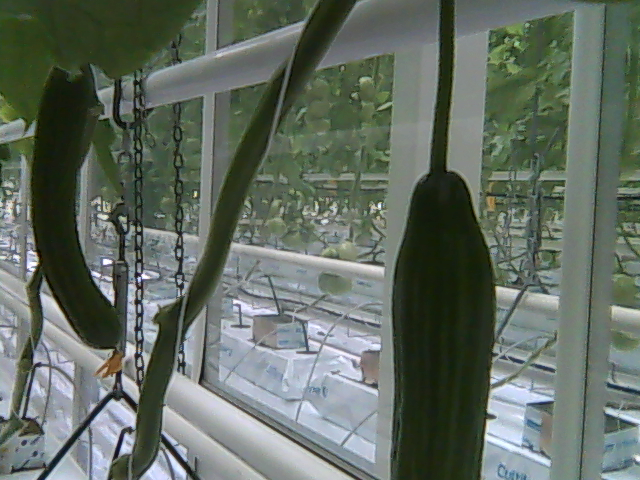concombre: (385, 159, 502, 480), (28, 64, 130, 379)
